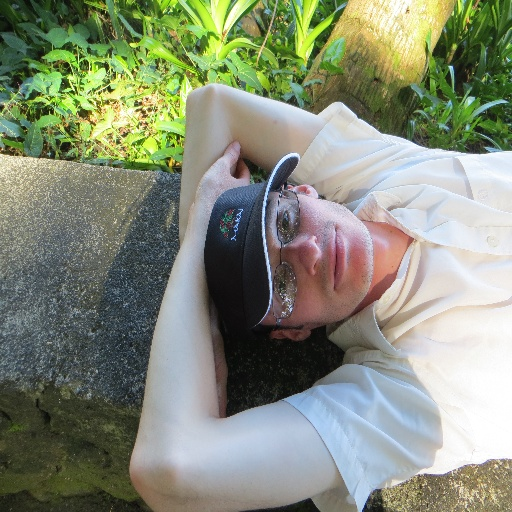hand: (188, 137, 252, 211), (209, 323, 228, 419)
